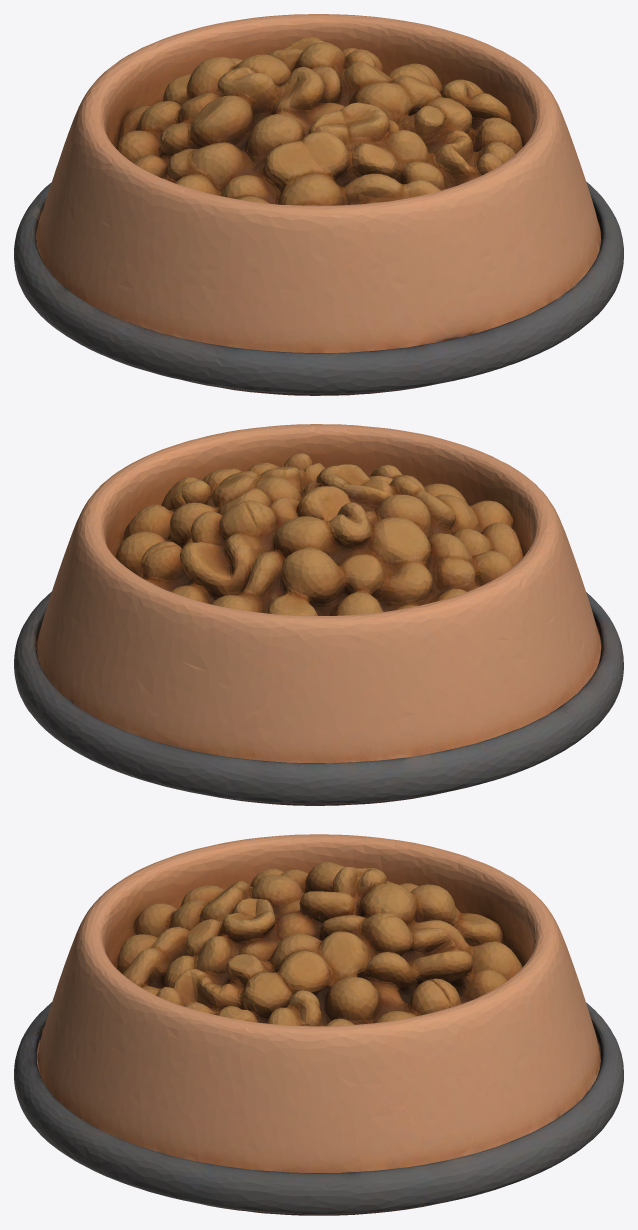
Rendered from bowl_food_1.glb.
The picture shows the model from 3 angles, top to bottom: view 1: azimuth 30°, elevation 25°; view 2: azimuth 150°, elevation 25°; view 3: azimuth 270°, elevation 25°; orthographic projection.
Parts seen in each view (by area): view 1: tripo_node_b59d4f91-0240-47aa-9d50-857f1e16dc1f; view 2: tripo_node_b59d4f91-0240-47aa-9d50-857f1e16dc1f; view 3: tripo_node_b59d4f91-0240-47aa-9d50-857f1e16dc1f.
Part boxes in pixels (x1,y1,x2,y2): tripo_node_b59d4f91-0240-47aa-9d50-857f1e16dc1f: (14, 14, 623, 395); tripo_node_b59d4f91-0240-47aa-9d50-857f1e16dc1f: (14, 424, 623, 805); tripo_node_b59d4f91-0240-47aa-9d50-857f1e16dc1f: (14, 834, 623, 1215).
Size of the model in its own units: 0.9994 by 0.3846 by 0.9997.
Materials: 1 (1 with a texture image).
